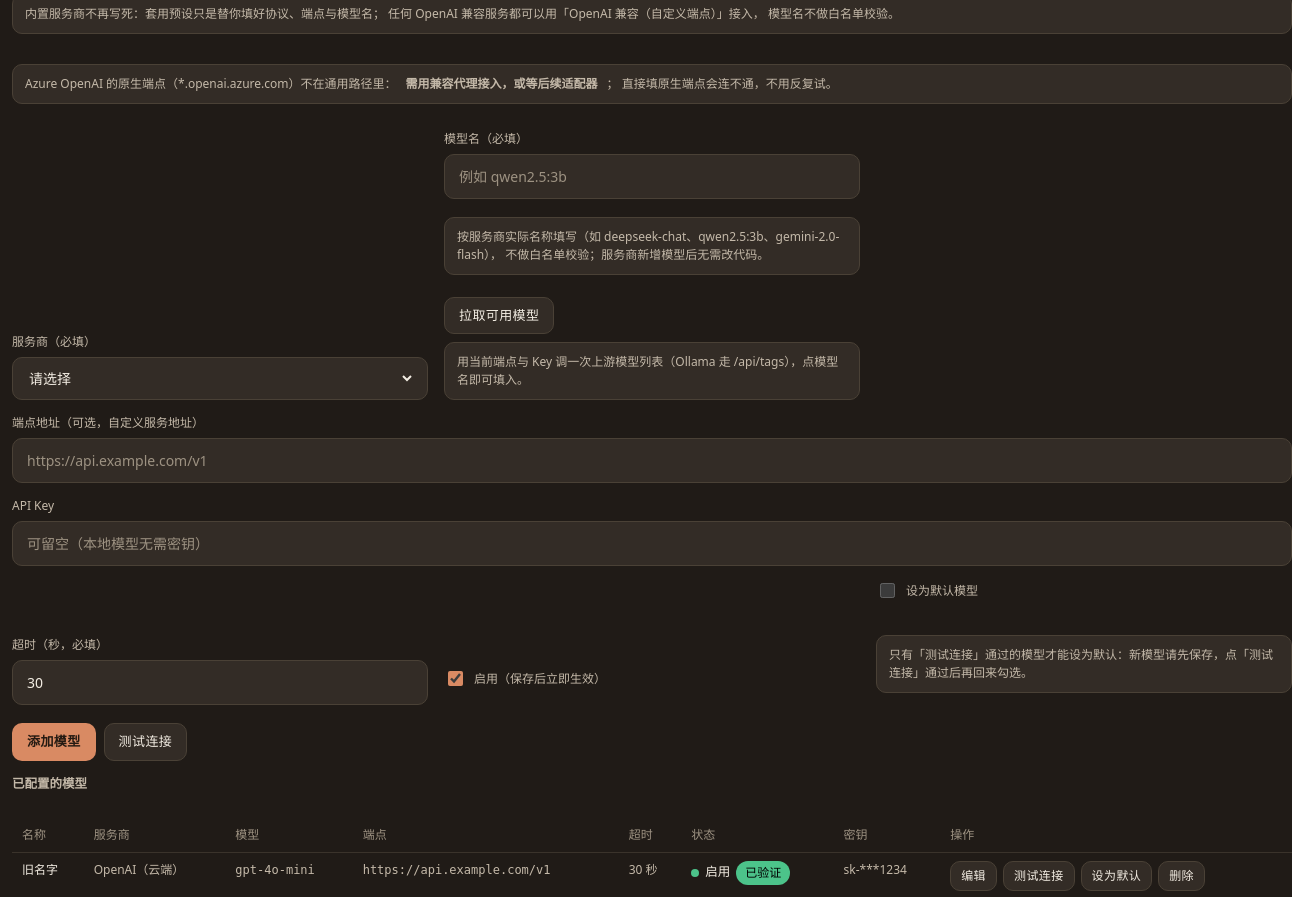
Test: 乐观并发（P2 前端） › 409 版本冲突：给可操作中文提示，重新加载后能看出差异并再次保存覆盖
(page scrolled)
Click the button with aria-label "编辑模型「旧名字」" at (974, 876), box [950, 860, 997, 890]
(page scrolled)
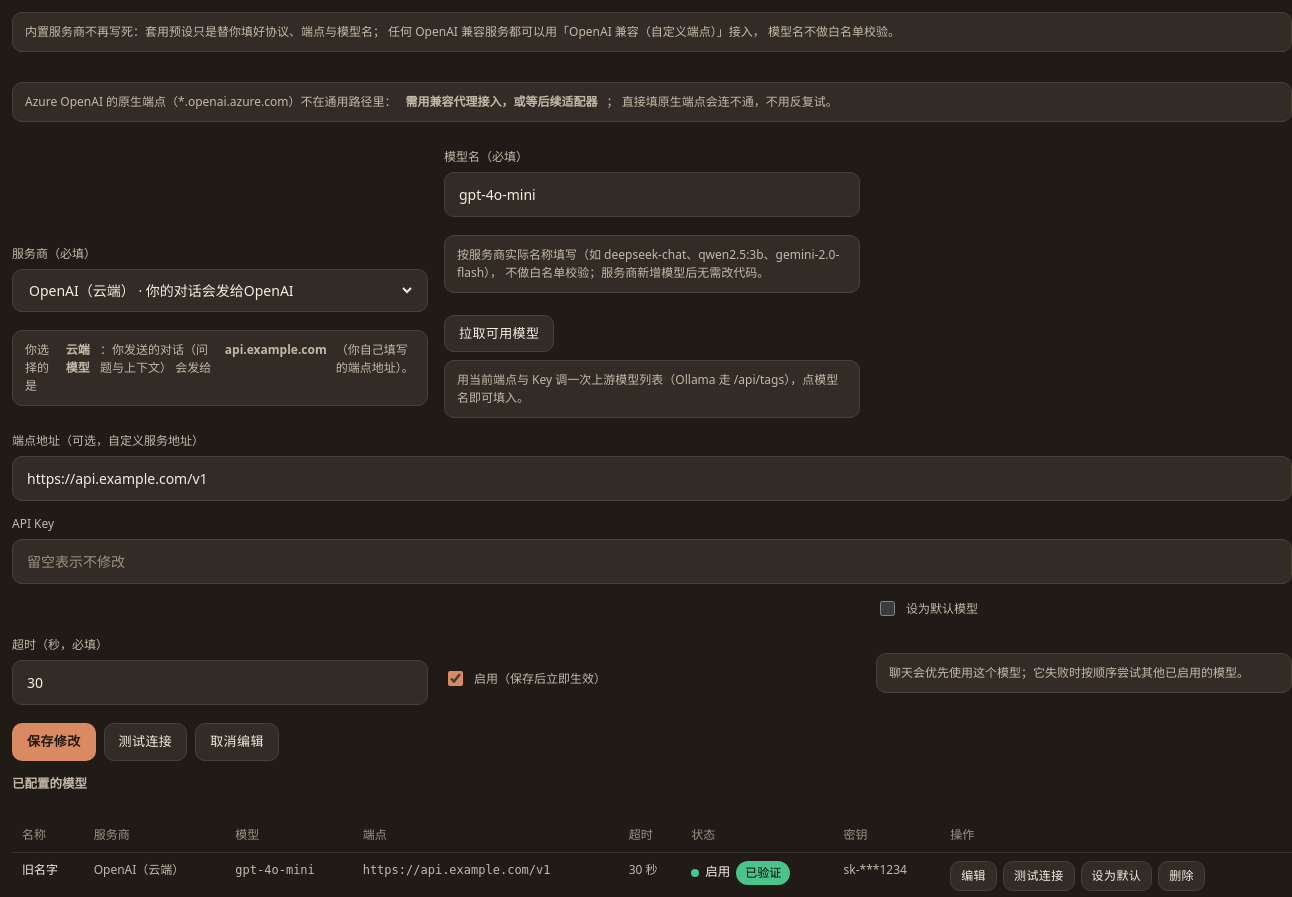
Click the button "保存修改" at (54, 742), box [12, 723, 96, 761]
(page scrolled)
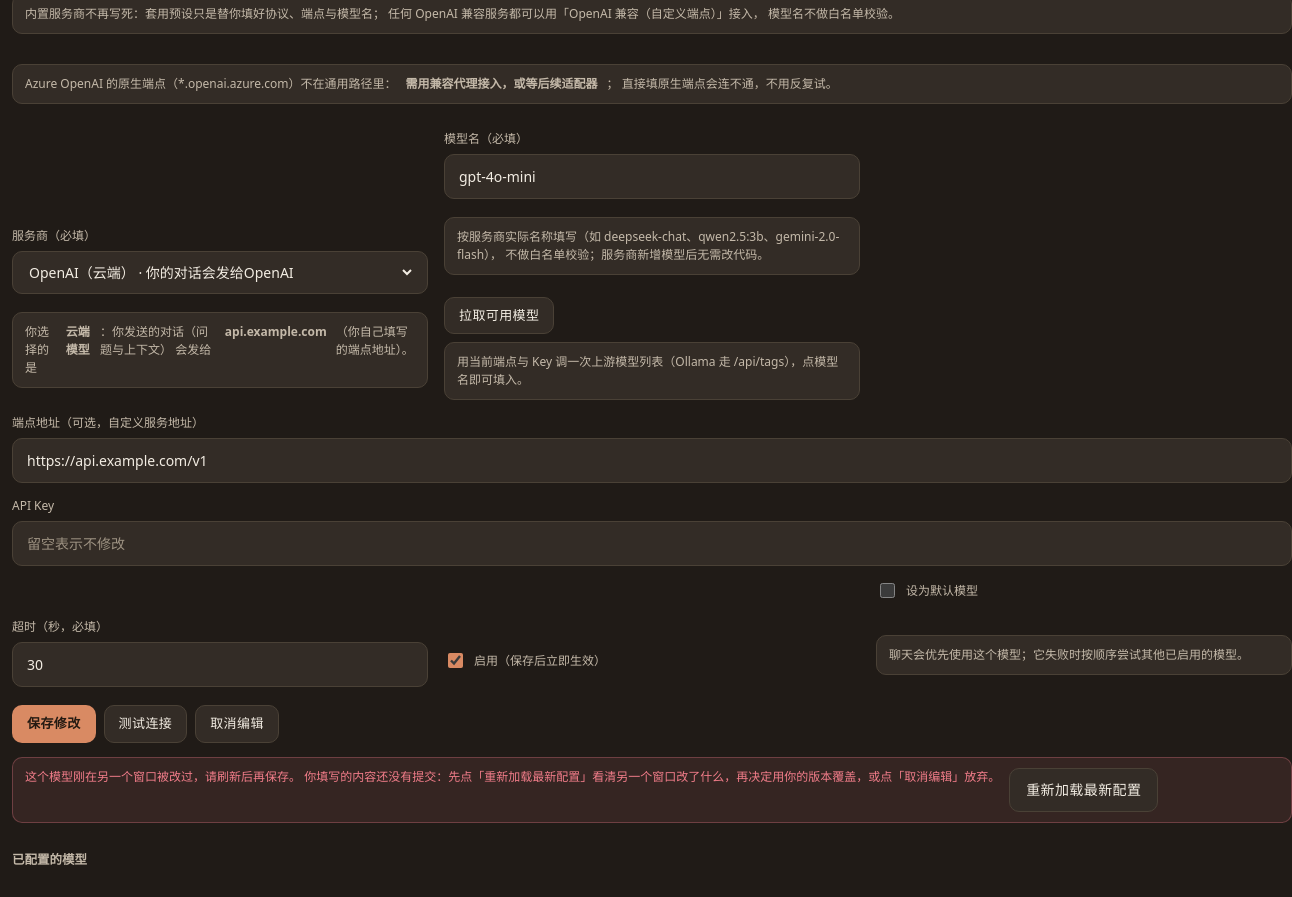
Check: the text "这个模型刚在另一个窗口被改过，请刷新后再保存。" is shown, box [25, 768, 301, 785]
Click the button "重新加载最新配置" at (1084, 790), box [1009, 768, 1158, 812]
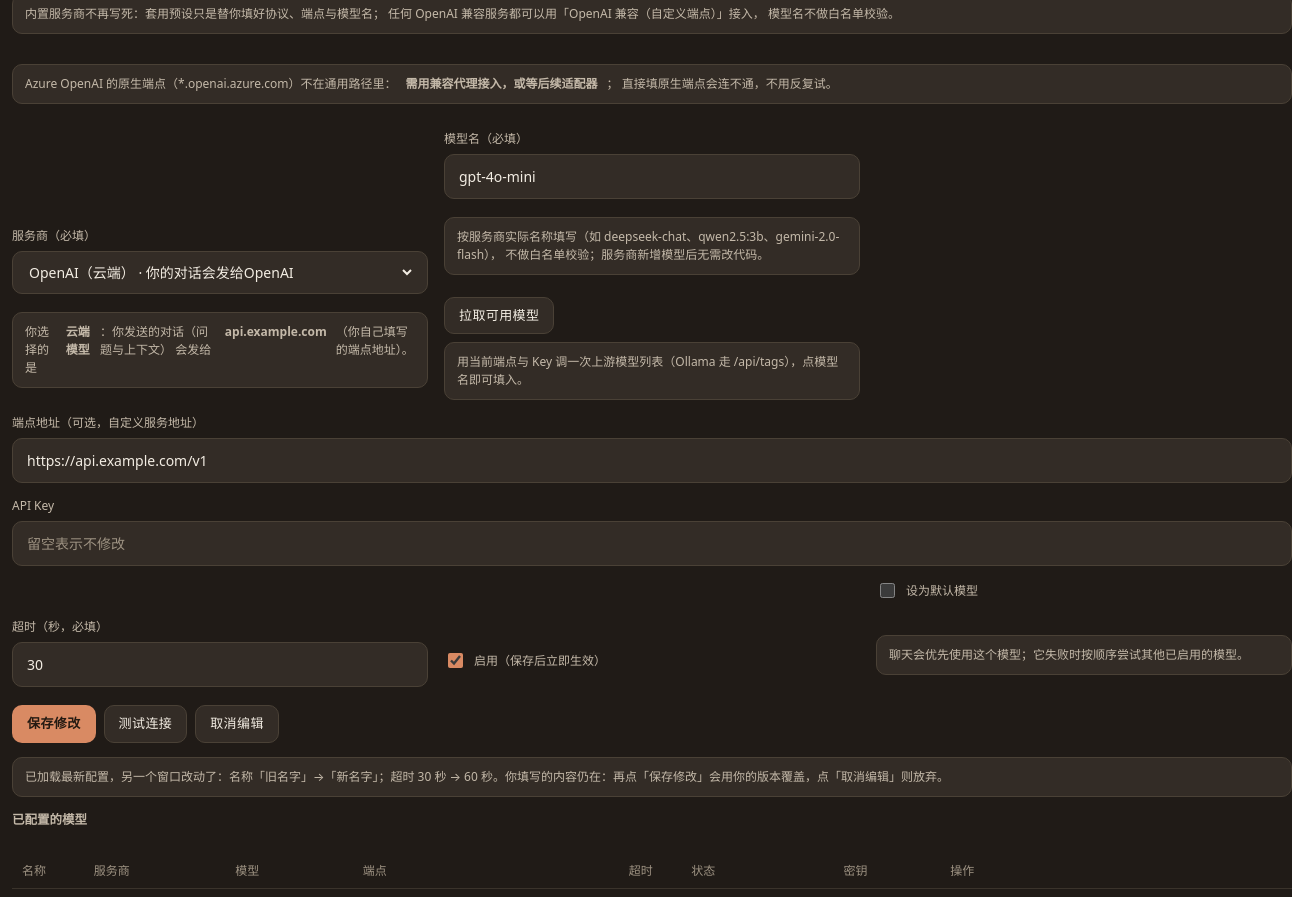
Check: the text "另一个窗口改动了：名称「旧名字」→「新名字」；超时 30 秒 → 60 秒" is shown, box [25, 768, 949, 785]
Click the button "保存修改" at (54, 724), box [12, 705, 96, 743]
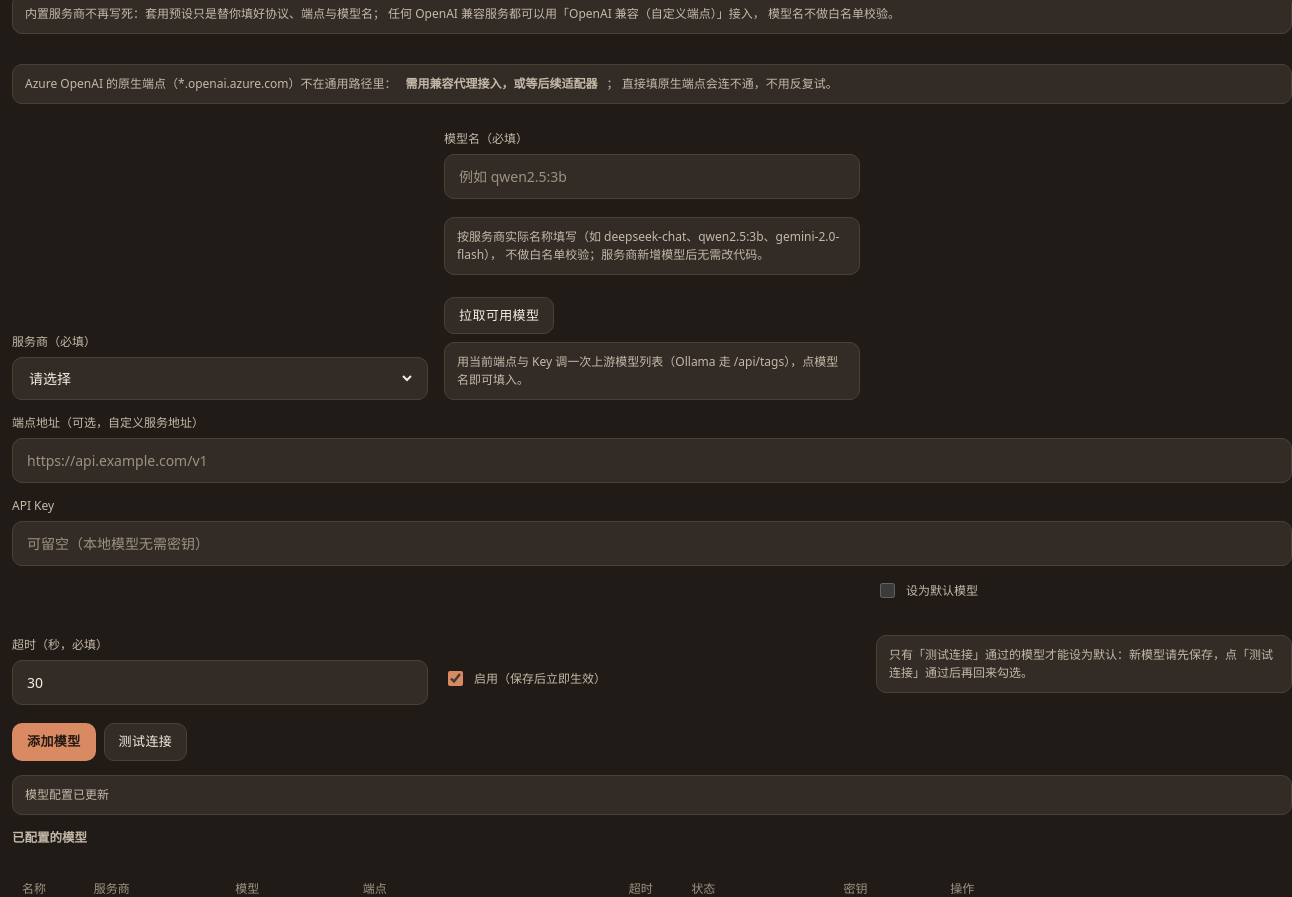
Check: the text "模型配置已更新" is shown, box [25, 786, 109, 804]
